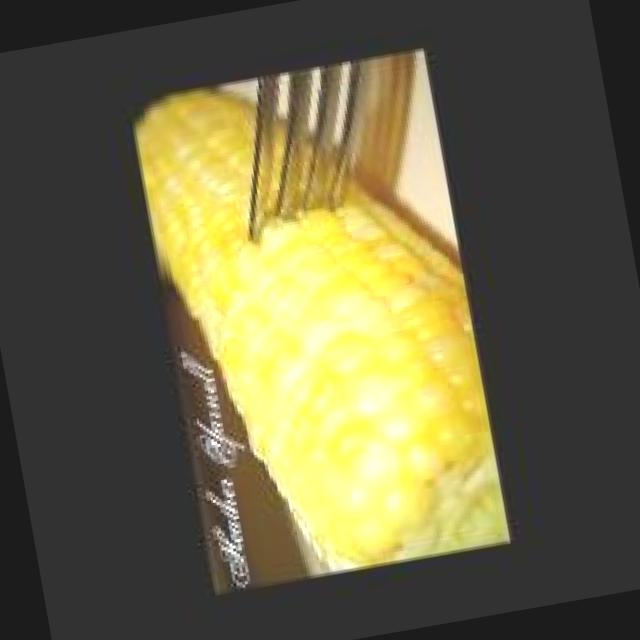corn: (133, 84, 512, 568)
